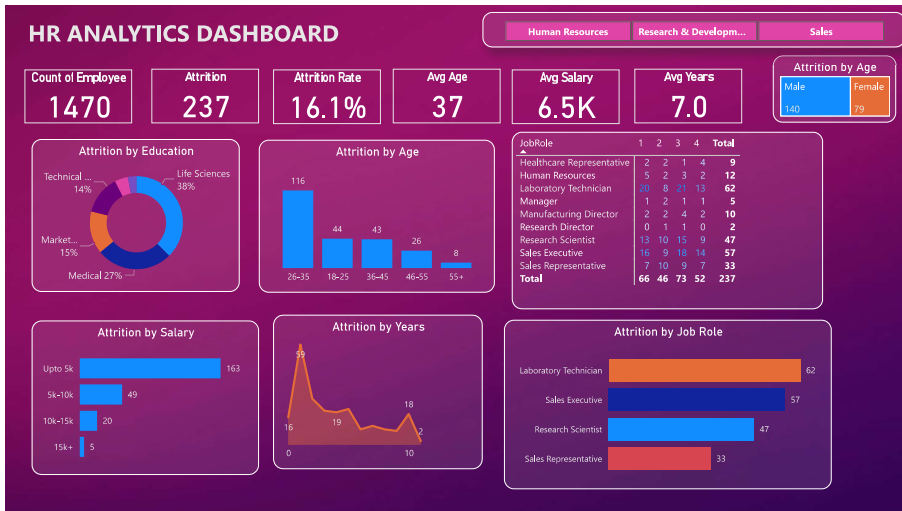

This screenshot's page, from the dashboard's own definition file:
{"tool":"powerbi","page":{"name":"Page 1","canvas":[1280,720],"ordinal":0},"visuals":[{"type":"card","title":"Count of Employee","fields":{"Values":["CountNonNull(HR_Analytics.EmpID)"]},"box":[27,89.3,150,75],"z":0},{"type":"card","title":"Attrition","fields":{"Values":["Sum(HR_Analytics.AttritionCount)"]},"box":[204.2,87.9,150,75.7],"z":1000},{"type":"card","title":"Attrition Rate","fields":{"Values":["HR_Analytics.AttritionRate"]},"box":[374.2,89.3,150,75.7],"z":2000},{"type":"card","title":"Avg Age","fields":{"Values":["Avg(HR_Analytics.Age)"]},"box":[541.3,87.9,150,75.7],"z":3000},{"type":"card","title":"Avg Salary","fields":{"Values":["Avg(HR_Analytics.MonthlyIncome)"]},"box":[707,89.3,150,75.7],"z":4000},{"type":"card","title":"Avg Years","fields":{"Values":["Avg(HR_Analytics.YearsAtCompany)"]},"box":[878.4,87.9,150,75.7],"z":5000},{"type":"donutChart","title":"Attrition by Education","fields":{"Category":["HR_Analytics.EducationField"],"Y":["Sum(HR_Analytics.AttritionCount)"]},"box":[36.7,186.4,290,212.2],"z":6000},{"type":"columnChart","title":"Attrition by Age","fields":{"Category":["HR_Analytics.AgeGroup"],"Y":["Sum(HR_Analytics.AttritionCount)"]},"box":[354.4,187.5,328.9,212.2],"z":7000},{"type":"pivotTable","fields":{"Rows":["HR_Analytics.JobRole"],"Columns":["HR_Analytics.JobSatisfaction"],"Values":["Sum(HR_Analytics.AttritionCount)"]},"box":[706.7,176.4,434.4,246.7],"z":8000},{"type":"barChart","title":"Attrition by Salary","fields":{"Category":["HR_Analytics.SalarySlab"],"Y":["Sum(HR_Analytics.AttritionCount)"]},"box":[36.7,438.6,317.8,215.6],"z":9000},{"type":"barChart","title":"Attrition by Job Role","fields":{"Y":["Sum(HR_Analytics.AttritionCount)"],"Category":["HR_Analytics.JobRole"]},"box":[696,438.1,456.6,235.9],"z":10000},{"type":"areaChart","title":"Attrition by Years","fields":{"Category":["HR_Analytics.YearsAtCompany"],"Y":["Sum(HR_Analytics.AttritionCount)"]},"box":[374.4,430.8,291.1,215.6],"z":11000},{"type":"treemap","title":"Attrition by Age","fields":{"Group":["HR_Analytics.Gender"],"Values":["Sum(HR_Analytics.AttritionCount)"]},"box":[1071.1,68.6,172.2,94.4],"z":12000},{"type":"slicer","fields":{"Values":["HR_Analytics.Department"]},"box":[665.8,9.3,590.3,48.8],"z":13000},{"type":"textbox","box":[26.7,10,540,58.3],"z":14000}]}

Visuals, with their boxes in screenshot pixels (x1, y1, x2, y2), scaled from the page's 1280x720 canvas onto the 902x511 screenshot:
"Count of Employee" card: {"left": 19, "top": 63, "right": 125, "bottom": 117}
"Attrition" card: {"left": 144, "top": 62, "right": 250, "bottom": 116}
"Attrition Rate" card: {"left": 264, "top": 63, "right": 369, "bottom": 117}
"Avg Age" card: {"left": 381, "top": 62, "right": 487, "bottom": 116}
"Avg Salary" card: {"left": 498, "top": 63, "right": 604, "bottom": 117}
"Avg Years" card: {"left": 619, "top": 62, "right": 725, "bottom": 116}
"Attrition by Education" donutChart: {"left": 26, "top": 132, "right": 230, "bottom": 283}
"Attrition by Age" columnChart: {"left": 250, "top": 133, "right": 482, "bottom": 284}
pivotTable - HR_Analytics.JobRole x HR_Analytics.JobSatisfaction: {"left": 498, "top": 125, "right": 804, "bottom": 300}
"Attrition by Salary" barChart: {"left": 26, "top": 311, "right": 250, "bottom": 464}
"Attrition by Job Role" barChart: {"left": 490, "top": 311, "right": 812, "bottom": 478}
"Attrition by Years" areaChart: {"left": 264, "top": 306, "right": 469, "bottom": 459}
"Attrition by Age" treemap: {"left": 755, "top": 49, "right": 876, "bottom": 116}
slicer - HR_Analytics.Department: {"left": 469, "top": 7, "right": 885, "bottom": 41}
textbox: {"left": 19, "top": 7, "right": 399, "bottom": 48}
